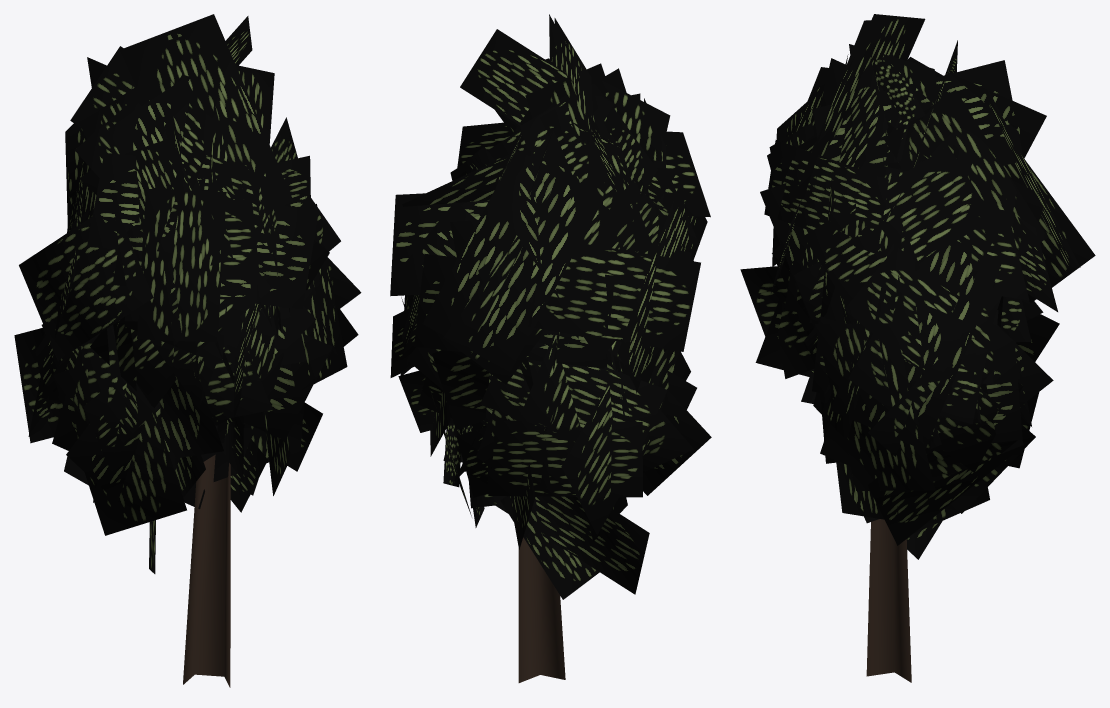
The model's file is caral_sauce_lod1.glb.
3 renders of one model, left to right at view 1: azimuth 30°, elevation 25°; view 2: azimuth 150°, elevation 25°; view 3: azimuth 270°, elevation 25°, orthographic.
Parts seen in each view (by area): view 1: GEO-Kit_sauce_LOD1; view 2: GEO-Kit_sauce_LOD1; view 3: GEO-Kit_sauce_LOD1.
Part boxes in pixels (<box>): GEO-Kit_sauce_LOD1: <box>14,14,361,687</box>; GEO-Kit_sauce_LOD1: <box>390,14,711,682</box>; GEO-Kit_sauce_LOD1: <box>740,14,1095,682</box>.
Size of the model in its own units: 3.83 by 8.29 by 3.98.
2 materials, 1 textured.
